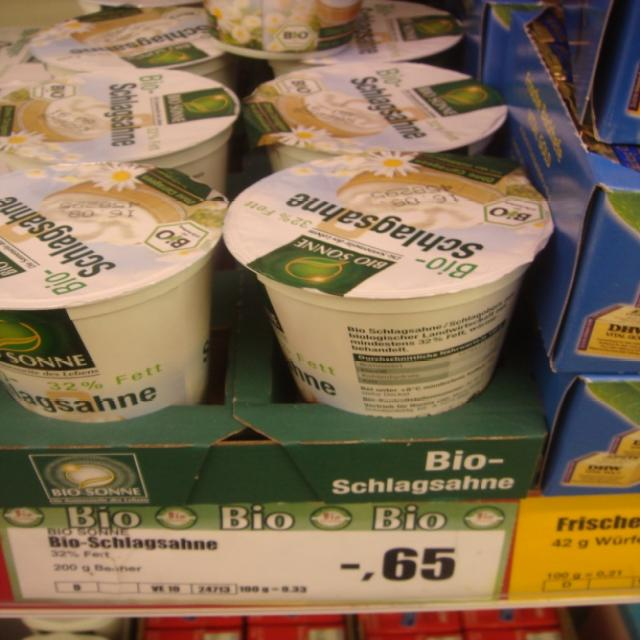Cream: (224, 150, 554, 418), (0, 162, 227, 422), (0, 69, 239, 192), (243, 62, 507, 170), (30, 5, 232, 87), (270, 0, 462, 75), (204, 0, 361, 58)
